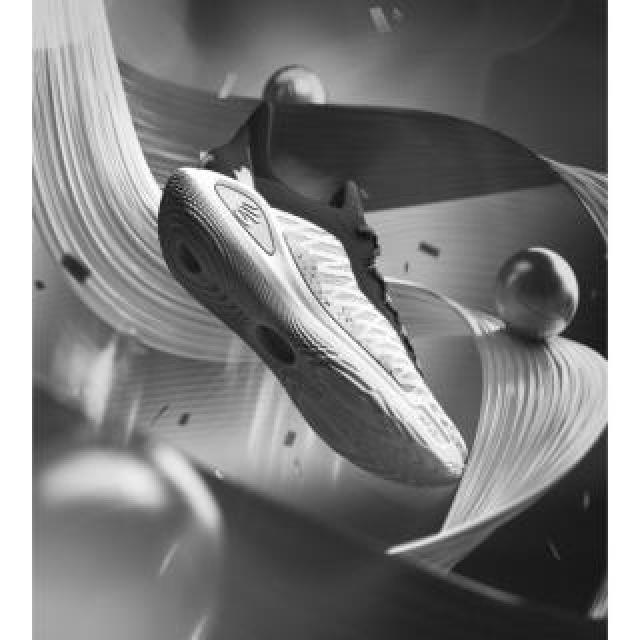shoes: (156, 101, 466, 485)
